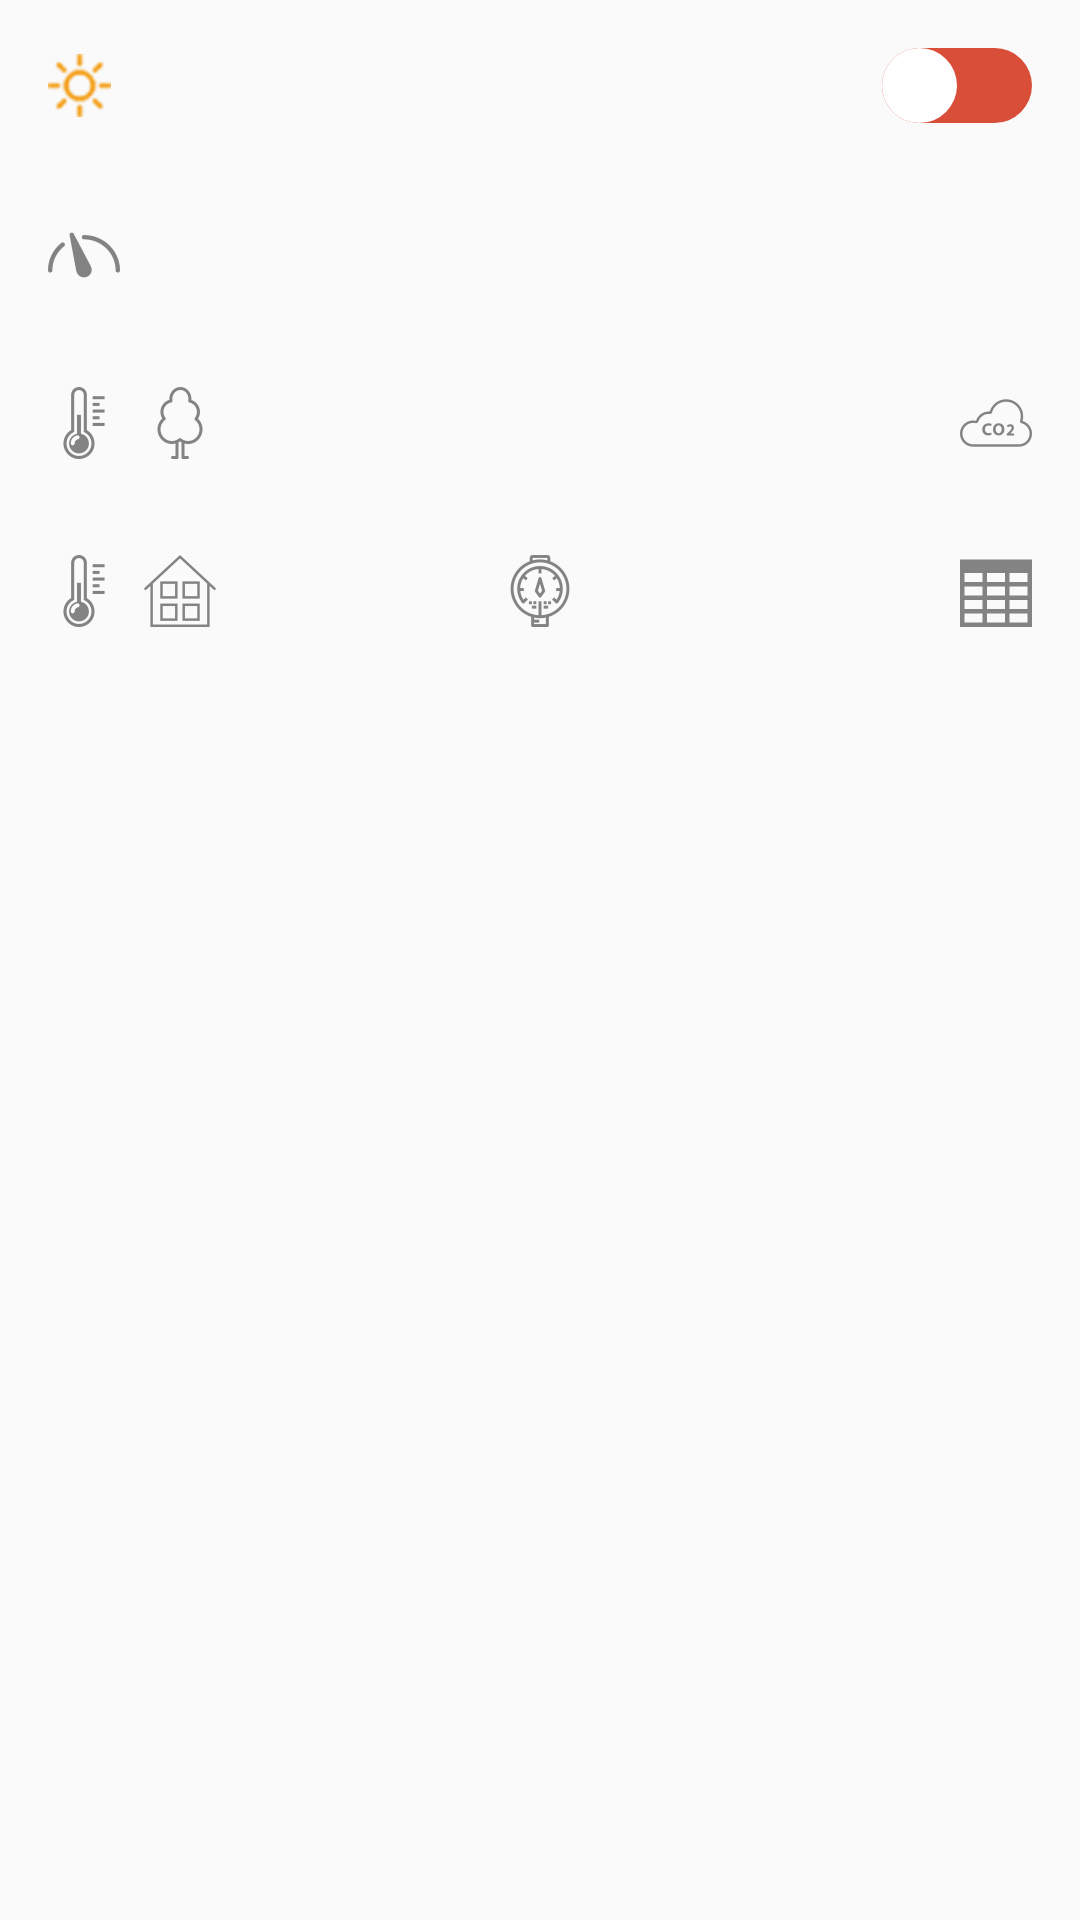

Screen size 1080*1920. Icon name, then its box in pixels as (x1, y1, x2, y2):
speed balck: (48, 232, 120, 278)
thermometer: (63, 387, 105, 459), (63, 555, 105, 627)
warm: (48, 54, 111, 117)
